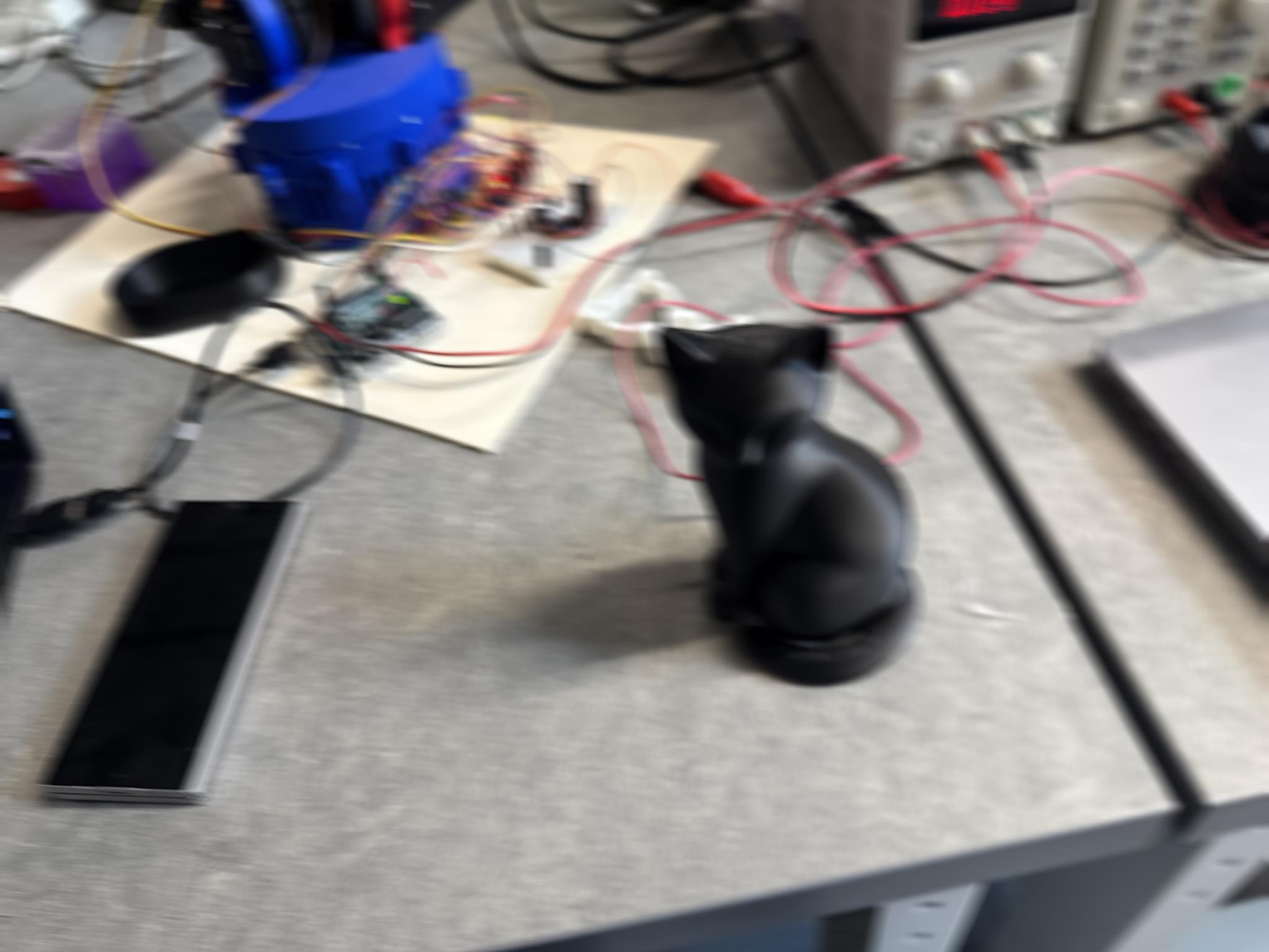cat: (653, 322, 922, 686)
